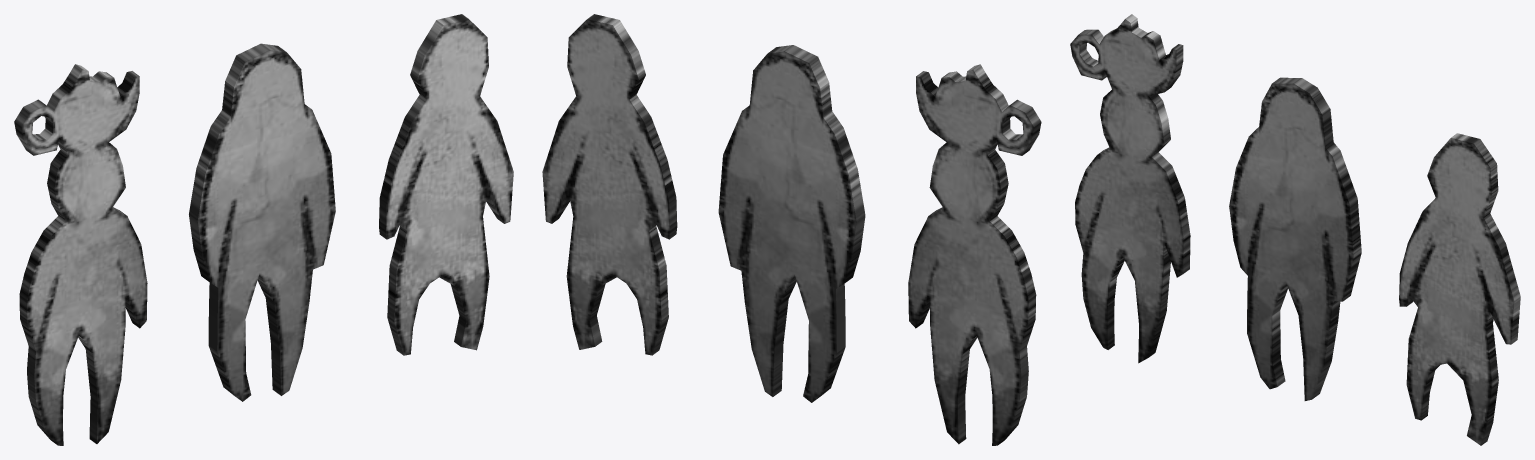
File: Silhuetter.fbx
3 renders of one model, left to right at view 1: azimuth 30°, elevation 25°; view 2: azimuth 150°, elevation 25°; view 3: azimuth 330°, elevation 25°, orthographic. The views are drawn at different scales.
Visible parts, largest first — view 1: Silhuette_03, Silhuette_02, Silhuette_01; view 2: Silhuette_03, Silhuette_02, Silhuette_01; view 3: Silhuette_03, Silhuette_02, Silhuette_01.
Boxes of the visible parts, x1,y1,x2,y2 form: Silhuette_03: [189, 43, 335, 401]; Silhuette_02: [14, 64, 147, 445]; Silhuette_01: [379, 14, 513, 355]; Silhuette_03: [718, 45, 865, 402]; Silhuette_02: [908, 64, 1041, 445]; Silhuette_01: [542, 14, 677, 355]; Silhuette_03: [1229, 77, 1361, 400]; Silhuette_02: [1070, 14, 1190, 363]; Silhuette_01: [1399, 133, 1520, 445].
Bounding box in the file's own units: 4.66 × 0.1456 × 3.43.
